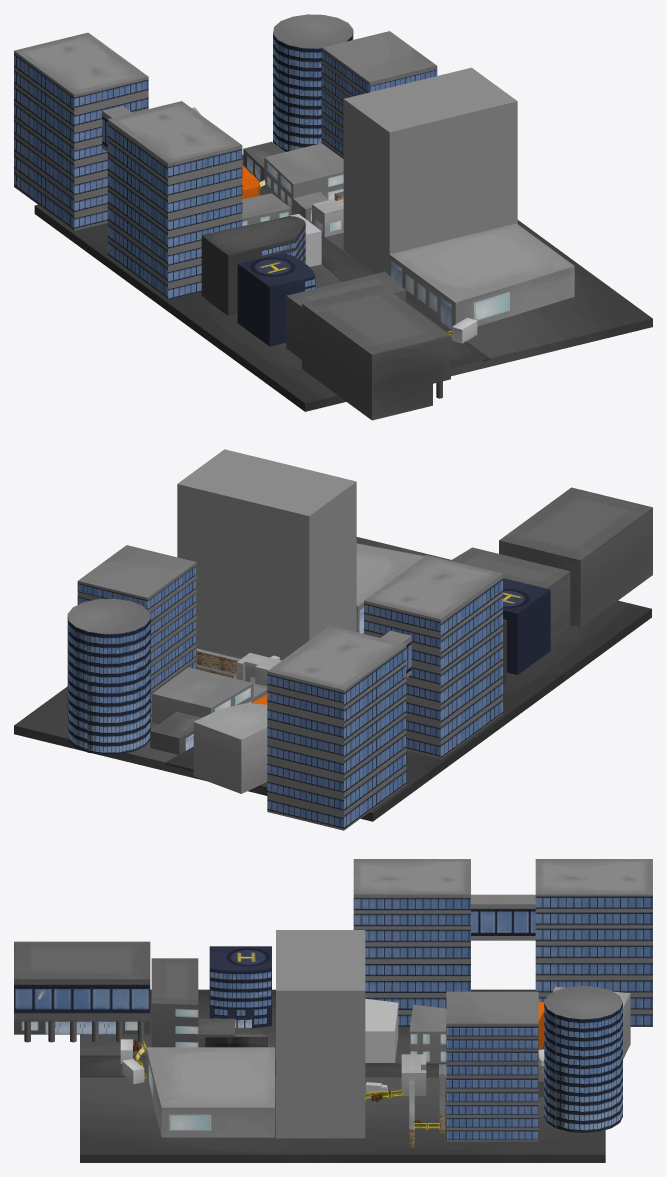
File: stage1.FBX
3 views of the same model, one above another, from view 1: azimuth 30°, elevation 25°; view 2: azimuth 150°, elevation 25°; view 3: azimuth 270°, elevation 25° (orthographic). The views are drawn at different scales.
Visible parts, largest first — view 1: Object020, Object010, Object029, Box001, Object022, Object021, Object013, Object016, Object025, Object024, Object015, Object008 (+4 smaller); view 2: Object020, Object029, Object010, Object022, Object013, Box001, Object016, Object011, Object015, Object024, Object021, Object014 (+2 smaller); view 3: Box001, Object020, Object022, Object029, Object010, Object016, Object021, Object013, Object024, Object028, Object026, Object027 (+6 smaller).
Boxes of the visible parts, left/top/right/bottom form: Object020: left=343, top=67, right=517, bottom=274; Object010: left=107, top=101, right=242, bottom=299; Object029: left=14, top=32, right=148, bottom=230; Box001: left=34, top=154, right=652, bottom=411; Object022: left=286, top=271, right=450, bottom=420; Object021: left=389, top=223, right=574, bottom=329; Object013: left=273, top=14, right=353, bottom=151; Object016: left=322, top=31, right=437, bottom=158; Object025: left=201, top=216, right=305, bottom=315; Object024: left=237, top=252, right=315, bottom=346; Object015: left=264, top=143, right=343, bottom=221; Object008: left=242, top=163, right=489, bottom=367; Object020: left=177, top=449, right=356, bottom=660; Object029: left=267, top=625, right=406, bottom=830; Object010: left=364, top=555, right=502, bottom=759; Object022: left=450, top=487, right=652, bottom=639; Object013: left=67, top=598, right=150, bottom=754; Box001: left=14, top=537, right=651, bottom=821; Object016: left=77, top=545, right=196, bottom=720; Object011: left=193, top=703, right=267, bottom=793; Object015: left=152, top=667, right=267, bottom=724; Object024: left=503, top=578, right=550, bottom=674; Object021: left=356, top=543, right=424, bottom=633; Object014: left=150, top=712, right=201, bottom=754; Box001: left=80, top=989, right=605, bottom=1162; Object020: left=276, top=930, right=365, bottom=1138; Object022: left=14, top=941, right=198, bottom=1047; Object029: left=535, top=859, right=652, bottom=1026; Object010: left=353, top=859, right=470, bottom=1026; Object016: left=446, top=991, right=538, bottom=1141; Object021: left=146, top=1047, right=274, bottom=1137; Object013: left=544, top=986, right=622, bottom=1132; Object024: left=209, top=946, right=271, bottom=1028; Object028: left=471, top=894, right=535, bottom=940; Object026: left=365, top=998, right=398, bottom=1062; Object027: left=409, top=1004, right=446, bottom=1063.
Bounding box in the file's own units: 3810 × 1765 × 6238.
